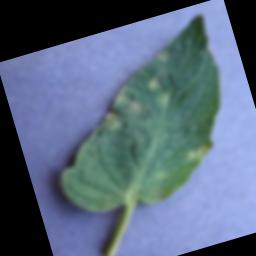Leaf_Mold: (94, 83, 149, 134), (183, 139, 217, 165)
